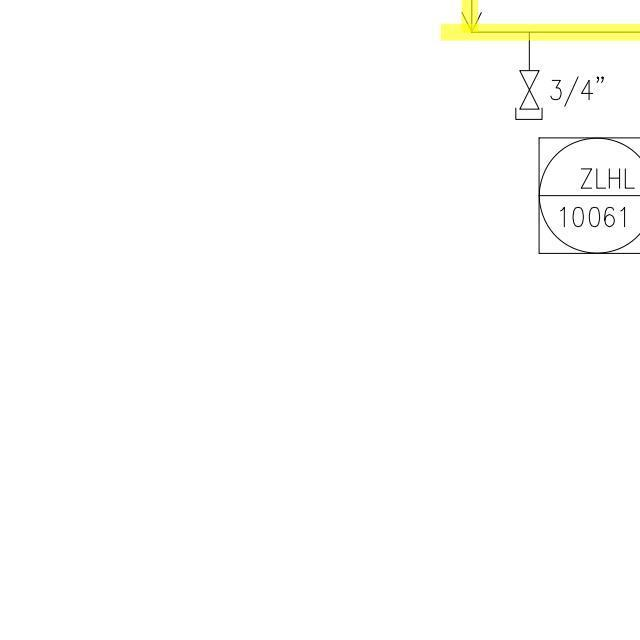EC: (509, 56, 549, 127)
GV: (518, 63, 541, 112)
